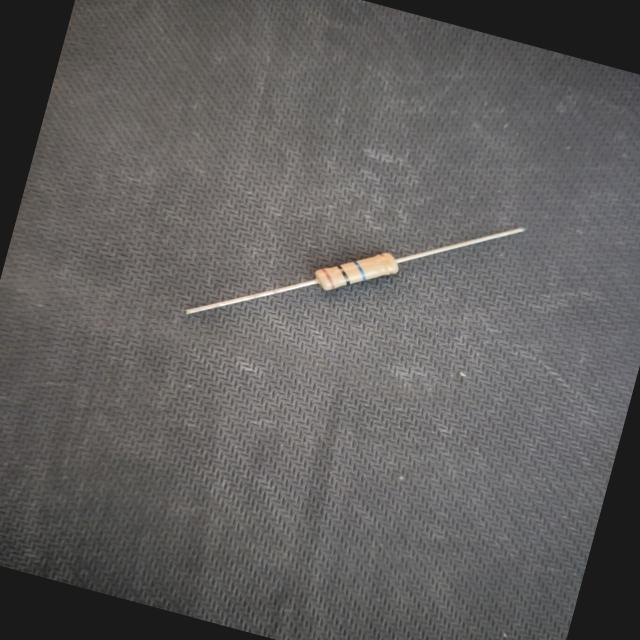resistor: (171, 136, 539, 404)
